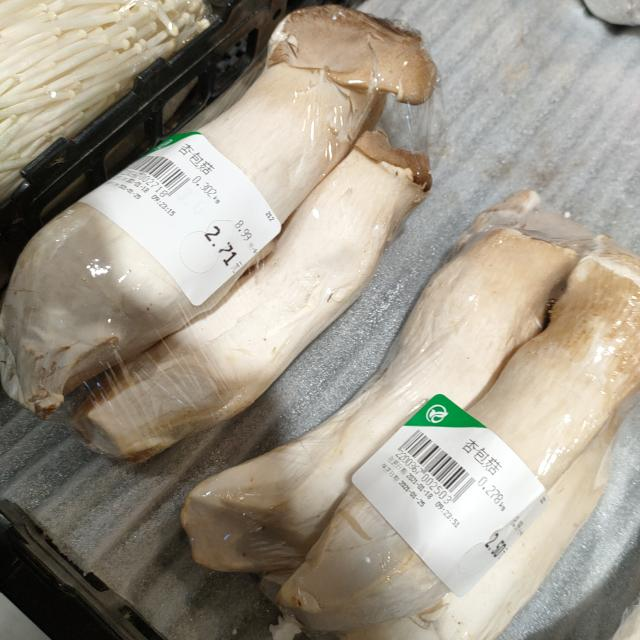Pleurotus eryngii: (178, 191, 640, 640), (0, 3, 436, 455)
